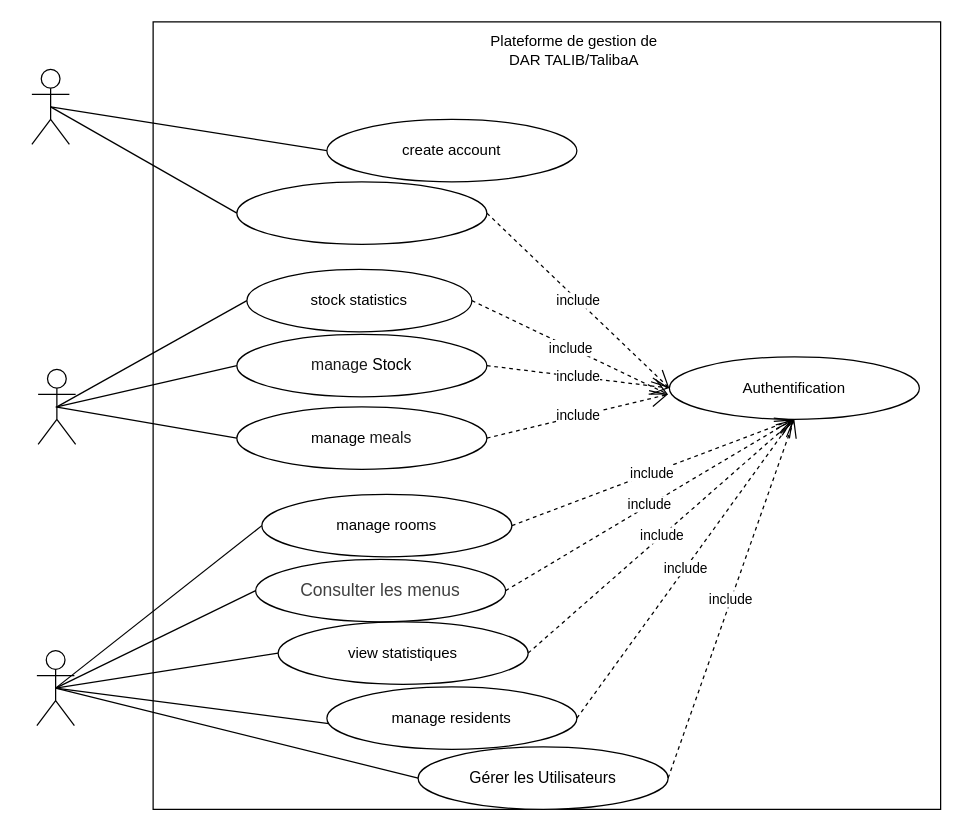
The diagram is 963 pixels wide and 831 high, and some of its shapes have lost their labels. The centre of each missing label's shape, as x and y in pixels:
"Admin" belongs at (55,687).
"make payment" belongs at (361,212).
"manager" belongs at (56,406).
"Resident" belongs at (50,106).
